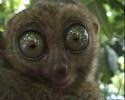cat: (0, 1, 124, 99)
